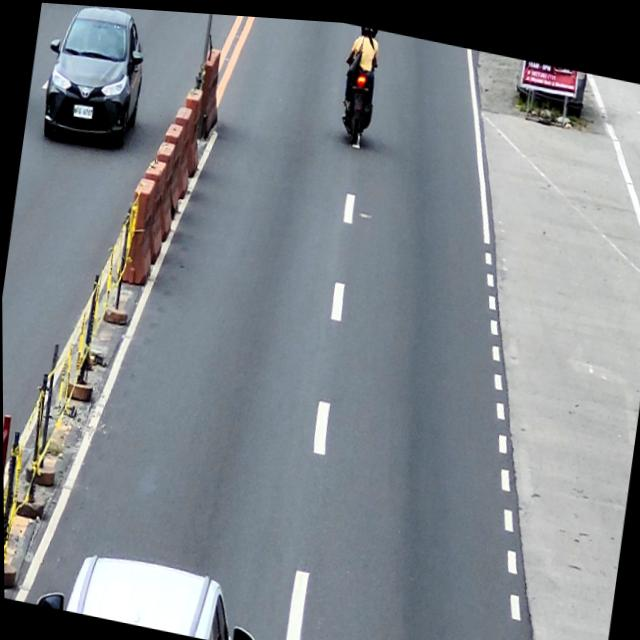Car: (37, 2, 152, 158)
License-Plate: (73, 103, 94, 119)
Motorcycle: (338, 38, 381, 145)
